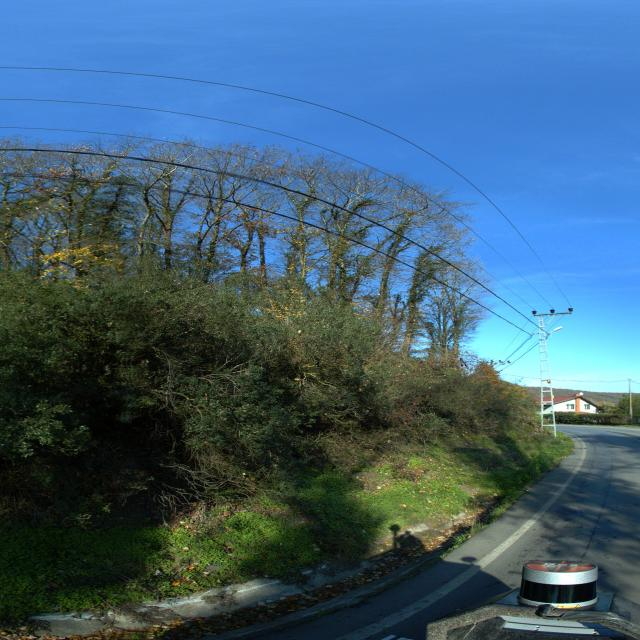Utility Pole Information Plate: (552, 395, 554, 398)
